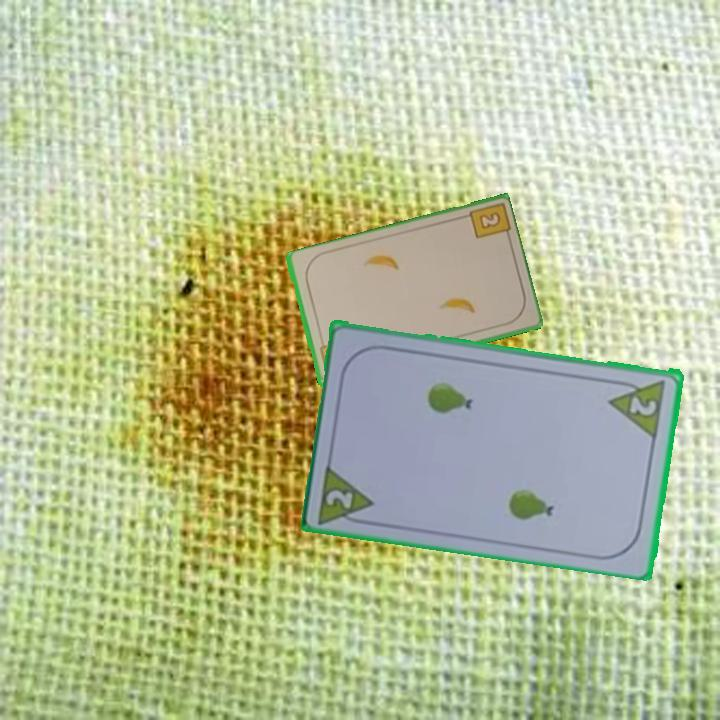2b: (475, 208, 504, 232)
2p: (315, 459, 377, 528), (606, 375, 669, 439)
